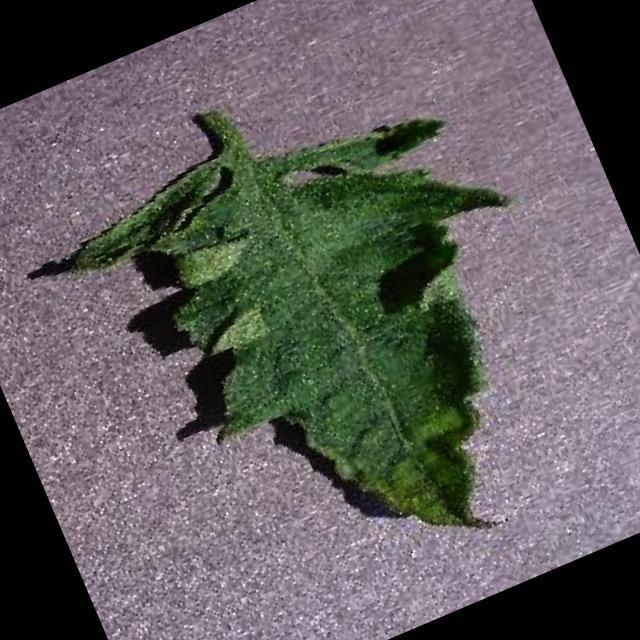Tomato mosaic virus leaf: (50, 52, 622, 640)
